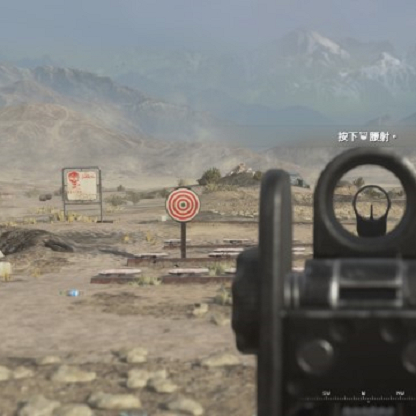target: (164, 188, 201, 222)
